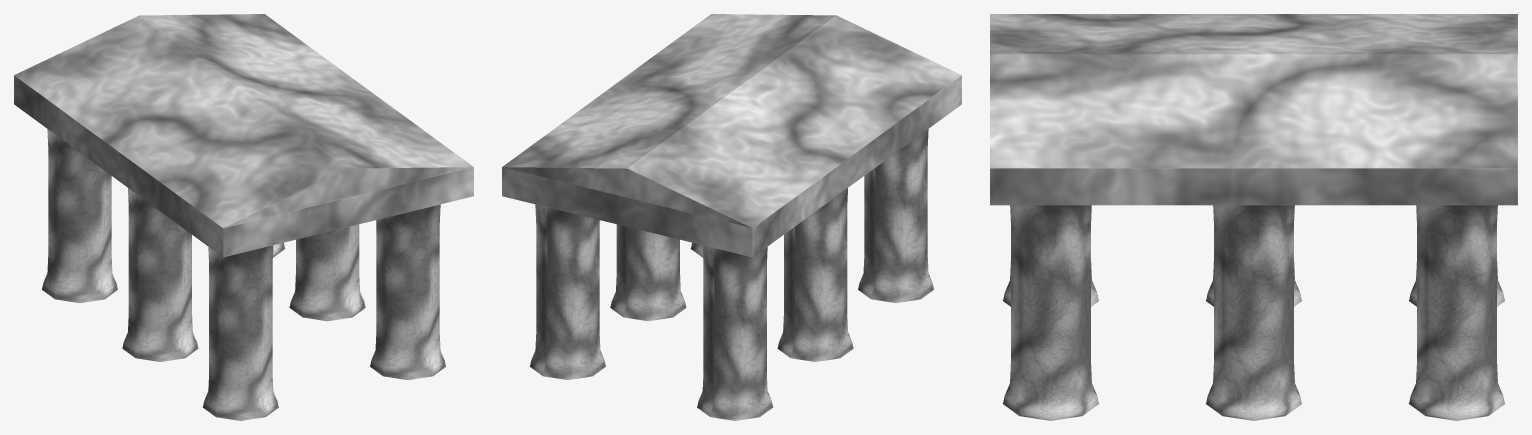
The model's file is shrineFBX.fbx.
3 views of the same model, side by side, from view 1: azimuth 30°, elevation 25°; view 2: azimuth 150°, elevation 25°; view 3: azimuth 270°, elevation 25° (orthographic). The views are drawn at different scales.
Visible parts, largest first — view 1: Roof, Cylinder006, Cylinder003, Cylinder005, Cylinder004, Cylinder002; view 2: Roof, Cylinder004, Cylinder001, Cylinder005, Cylinder006, Cylinder002; view 3: Roof, Cylinder001, Cylinder003, Cylinder002.
Boxes of the visible parts, x1,y1,x2,y2 form: Roof: [14, 14, 473, 257]; Cylinder006: [202, 245, 278, 420]; Cylinder003: [370, 204, 445, 379]; Cylinder005: [122, 188, 198, 361]; Cylinder004: [42, 129, 117, 302]; Cylinder002: [289, 224, 365, 321]; Roof: [502, 14, 961, 257]; Cylinder004: [697, 245, 773, 420]; Cylinder001: [530, 204, 605, 379]; Cylinder005: [777, 188, 853, 361]; Cylinder006: [858, 129, 933, 302]; Cylinder002: [610, 224, 686, 321]; Roof: [990, 14, 1517, 205]; Cylinder001: [1409, 205, 1504, 420]; Cylinder003: [1003, 205, 1098, 420]; Cylinder002: [1206, 205, 1301, 420].
Bounding box in the file's own units: 90 × 80 × 130.
